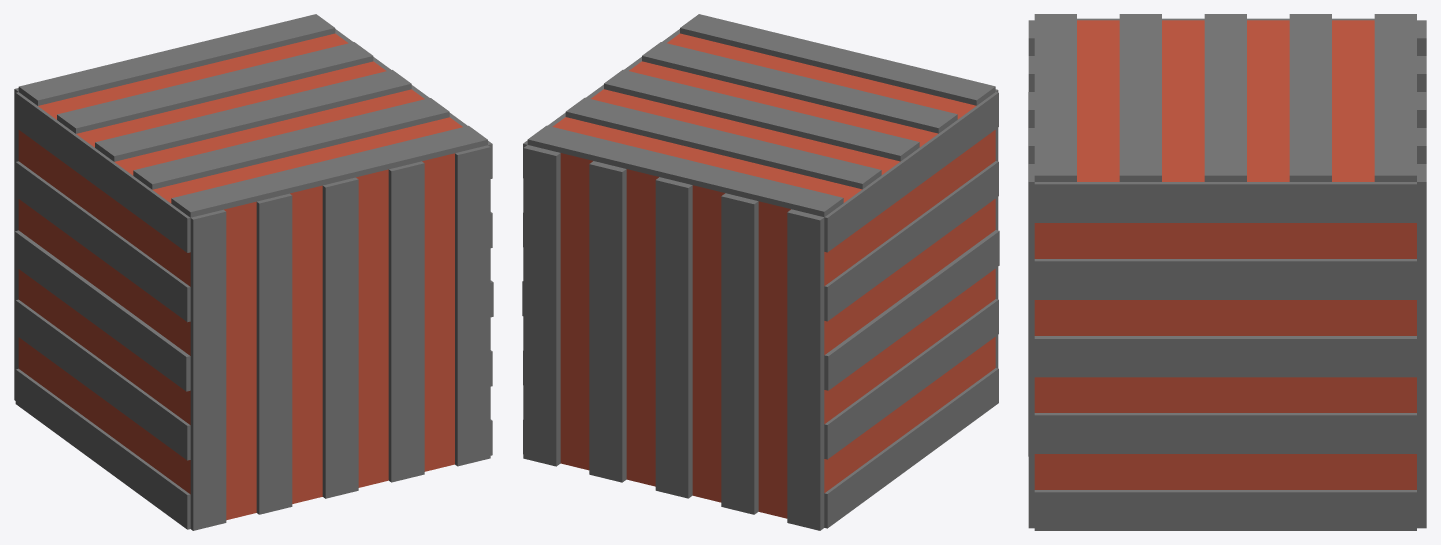
The picture shows the model from 3 angles, left to right: view 1: azimuth 30°, elevation 25°; view 2: azimuth 150°, elevation 25°; view 3: azimuth 270°, elevation 25°; orthographic projection. The views are drawn at different scales.
Visible parts, largest first — view 1: Cube; view 2: Cube; view 3: Cube.
Part boxes in pixels (box(x1,y1,x2,y2)): Cube: box(14, 14, 493, 530); Cube: box(522, 14, 999, 530); Cube: box(1028, 14, 1426, 530).
Size of the model in its own units: 206 by 204 by 208.
